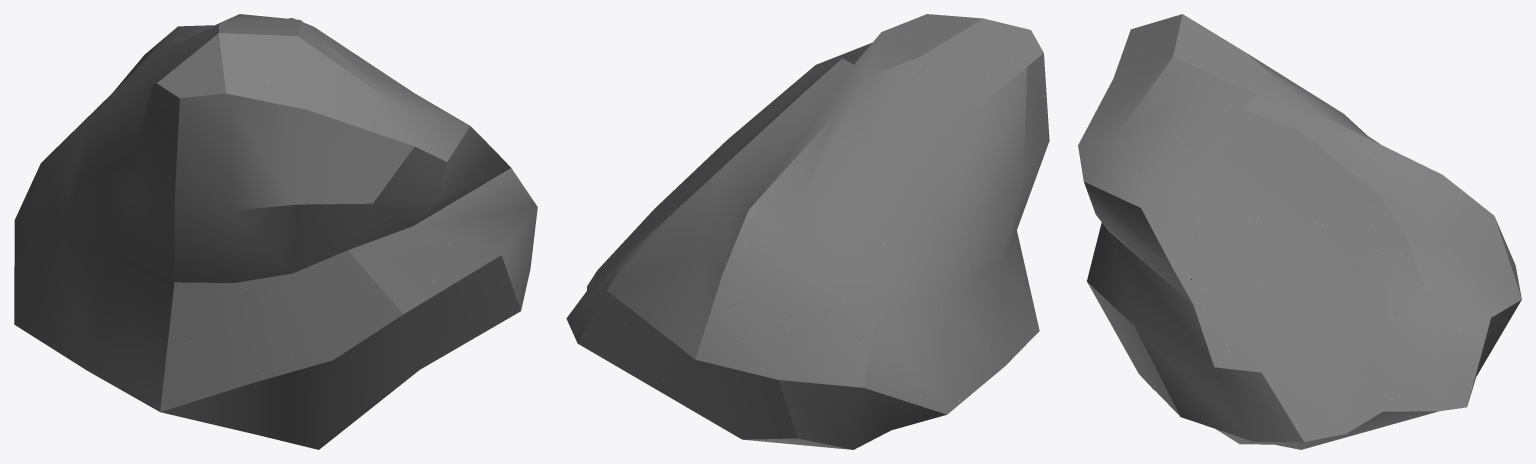
The model's file is Boulder M.fbx.
The picture shows the model from 3 angles, left to right: view 1: azimuth 30°, elevation 25°; view 2: azimuth 150°, elevation 25°; view 3: azimuth 270°, elevation 25°; orthographic projection. The views are drawn at different scales.
Visible parts, largest first — view 1: Boulder M; view 2: Boulder M; view 3: Boulder M.
Boxes of the visible parts, left/top/right/bottom form: Boulder M: left=14, top=14, right=537, bottom=449; Boulder M: left=566, top=14, right=1049, bottom=449; Boulder M: left=1078, top=14, right=1521, bottom=449.
Bounding box in the file's own units: 2627 × 2429 × 2671.
